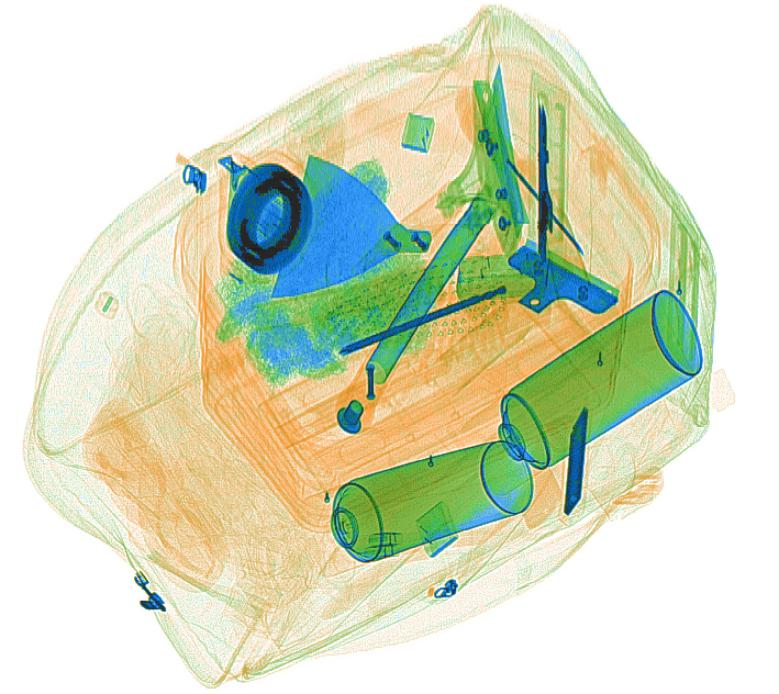knife: (469, 77, 531, 225), (521, 238, 620, 306), (491, 62, 525, 238), (563, 405, 589, 515)
pressure: (466, 288, 706, 493), (302, 438, 537, 577)
